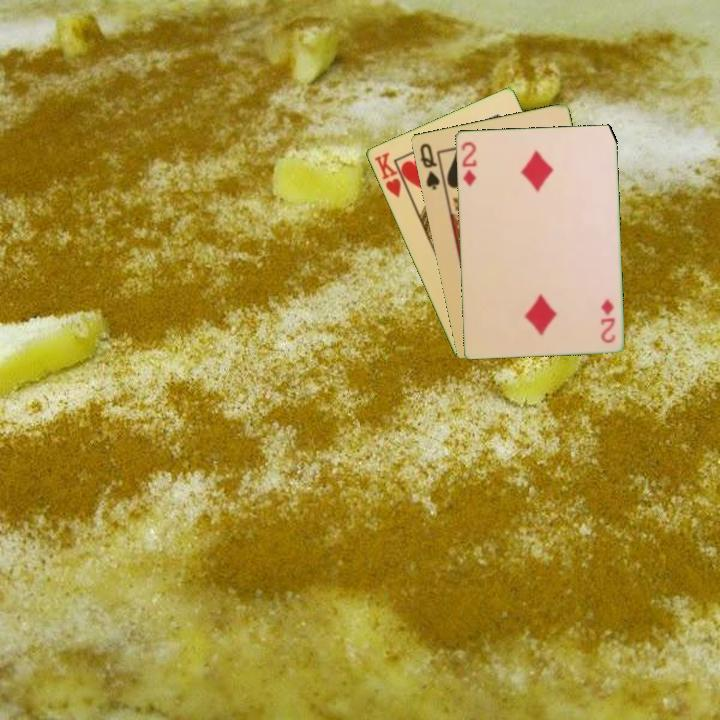2d: (458, 138, 479, 189), (597, 295, 618, 346)
Kh: (370, 148, 411, 201)
Qs: (416, 140, 442, 193)
